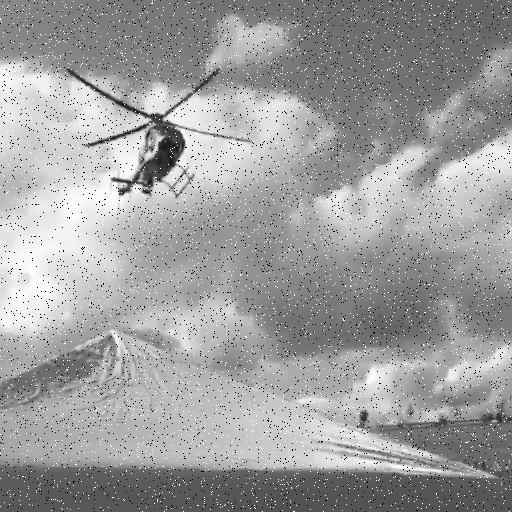helicopter: (63, 68, 254, 208)
